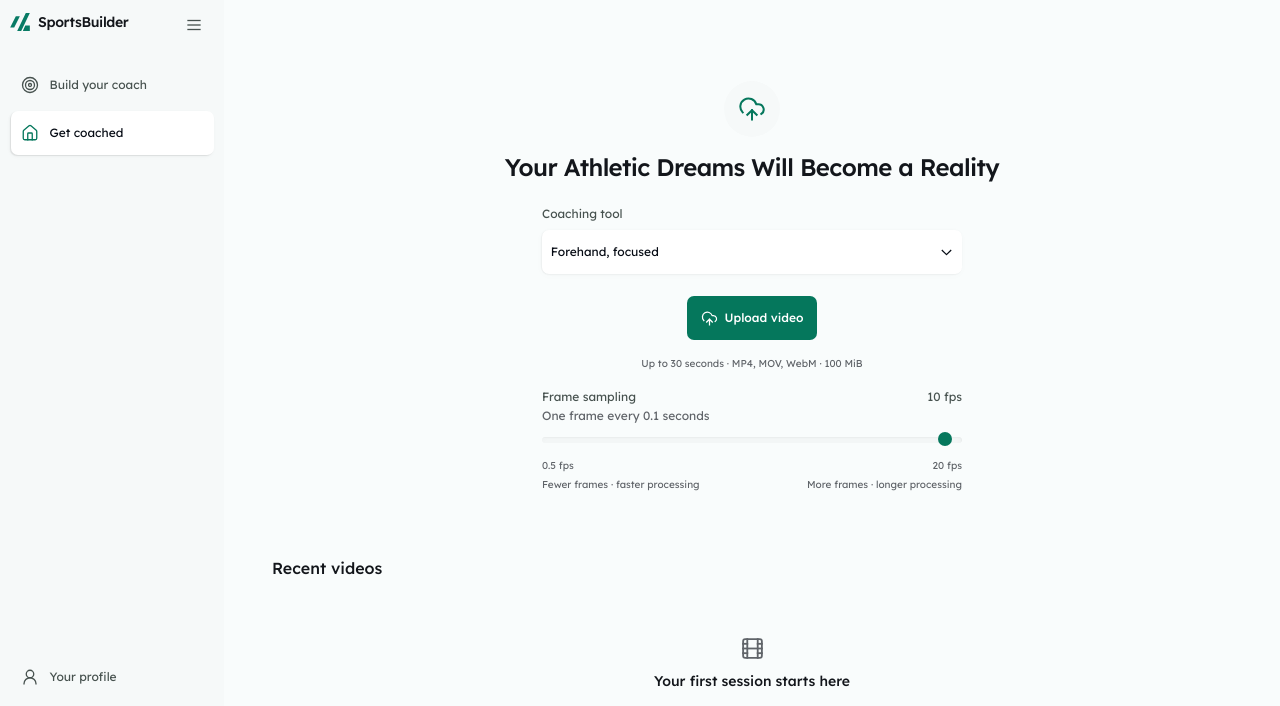
Test: deletes the last library option and keeps useful keyboard focus
Expected: the dropdown named "Coaching tool for upload" reads "Forehand, focused", [542, 230, 962, 274]
Click the button "Build your coach" at (112, 85), box [10, 63, 214, 107]
(page scrolled)
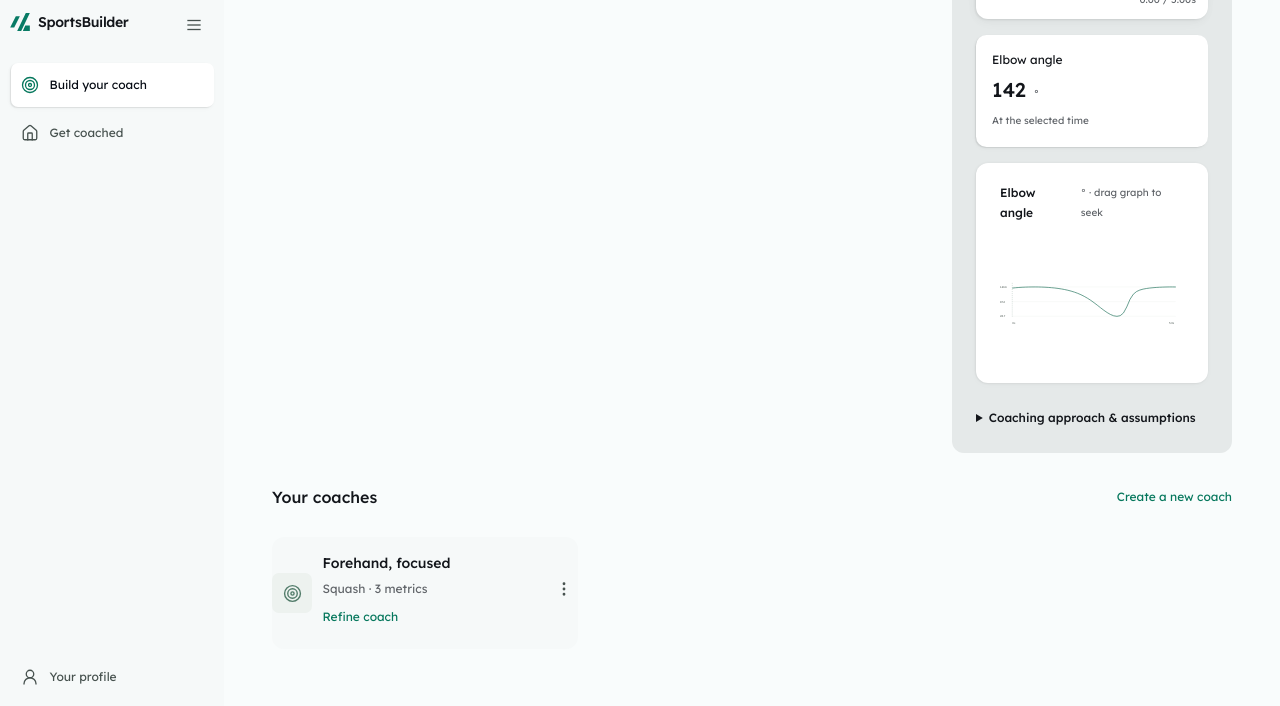
Click the button named "Options for Forehand, focused" at (564, 589), box [542, 567, 586, 611]
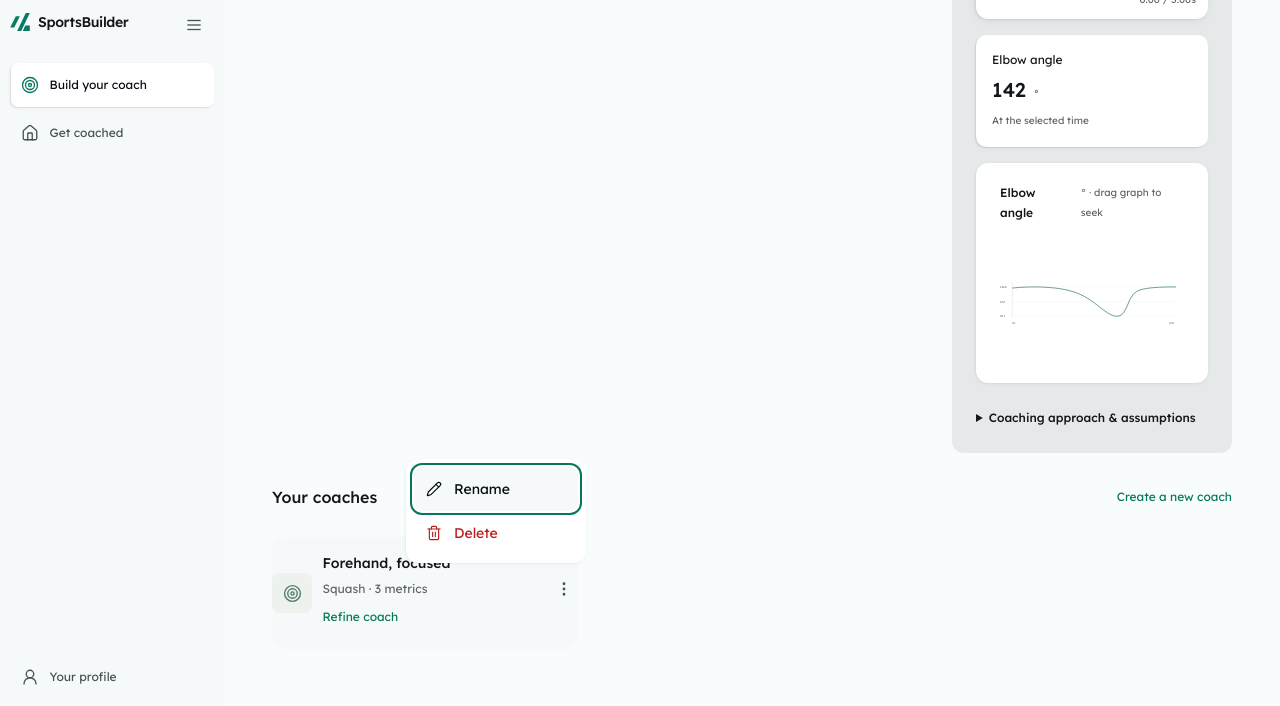
Click the menu item "Delete" at (496, 533), box [414, 511, 578, 555]
(page scrolled)
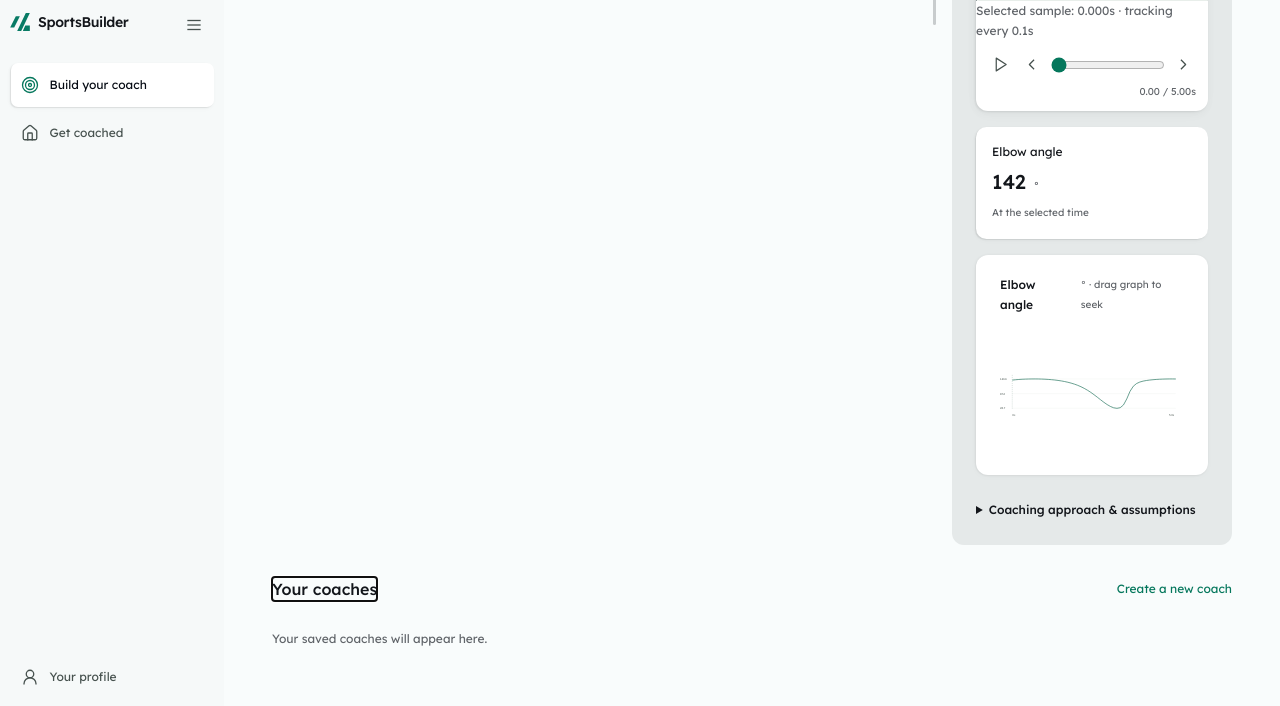
Expected: the text "Your saved coaches will appear here." is shown, [272, 631, 487, 646]
